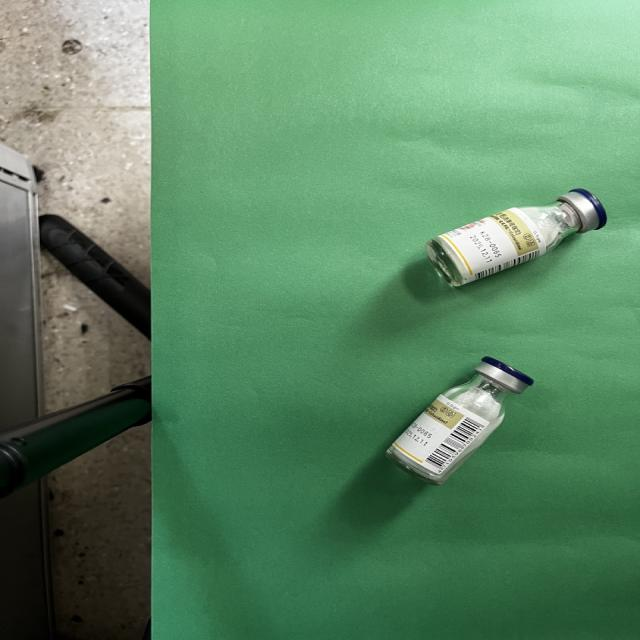Vials: (387, 356, 533, 484), (425, 188, 607, 287)
